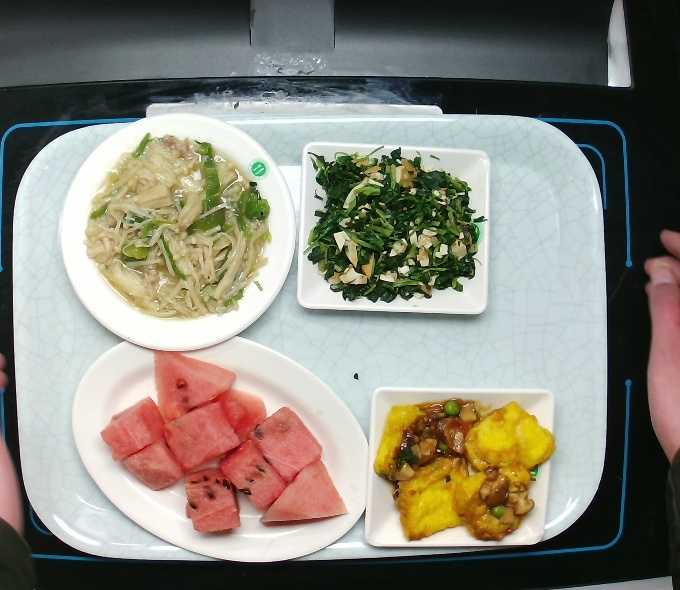wcq-CuiPiDouFu: (372, 395, 560, 543)
wcq-JinZhenGu: (77, 127, 274, 321)
wcq-MaLanTouChaoDouGan: (301, 142, 489, 305)
wcq-XiGua: (98, 345, 352, 536)
